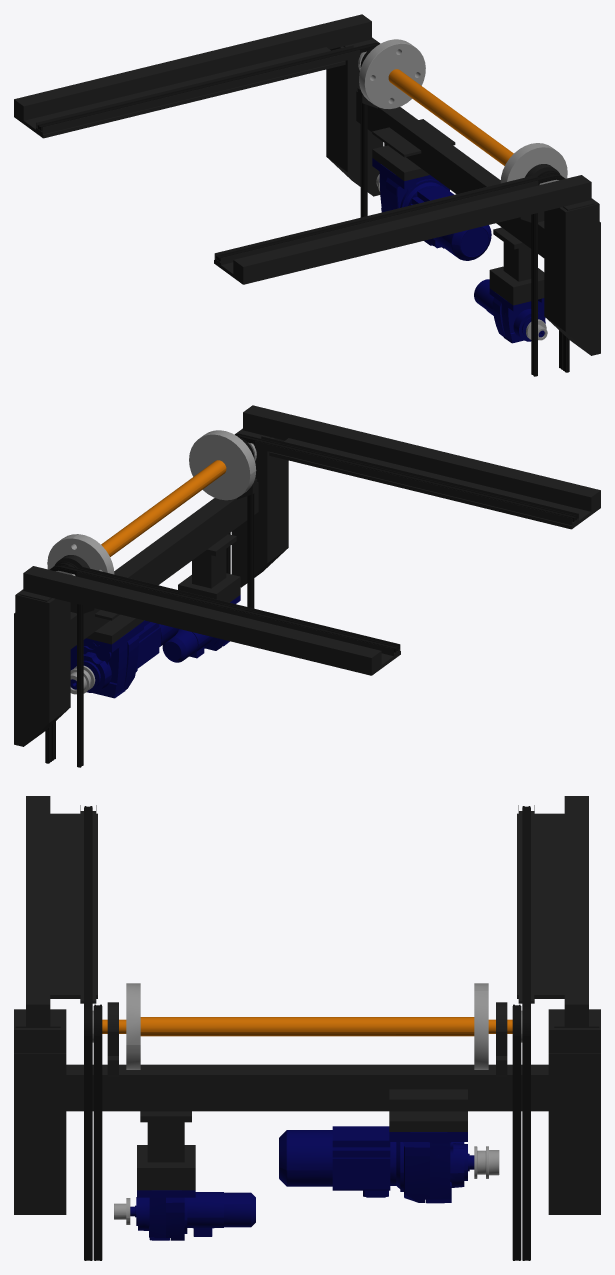
Rendered from LIFT-DUR.obj.
3 renders of one model, top to bottom at view 1: azimuth 30°, elevation 25°; view 2: azimuth 150°, elevation 25°; view 3: azimuth 270°, elevation 25°, orthographic. The views are drawn at different scales.
Parts seen in each view (by area): view 1: P072855; view 2: P072855; view 3: P072855.
Boxes of the visible parts, box(x1,y1,x2,y2) form: P072855: box(14, 14, 600, 376); P072855: box(14, 405, 600, 767); P072855: box(14, 796, 600, 1260).
Size of the model in its own units: 3219 by 1813 by 3650.
